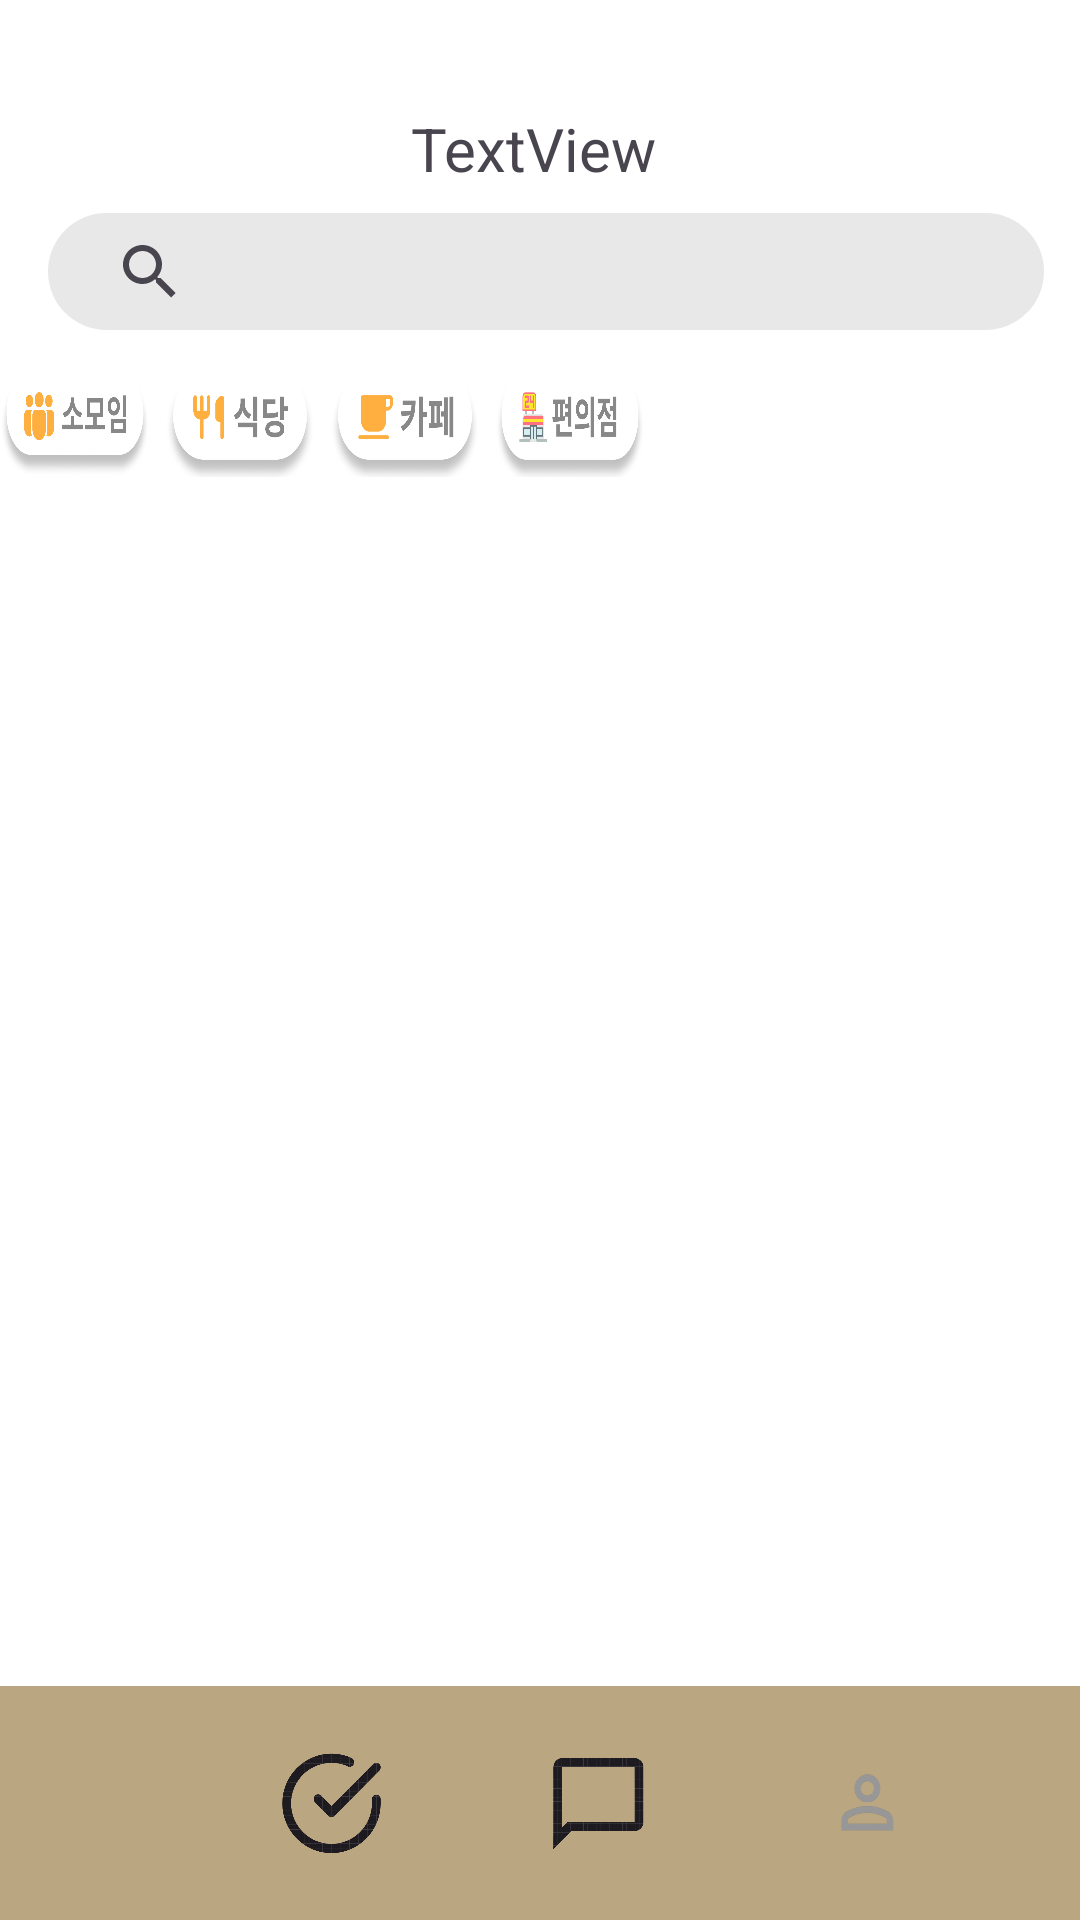

Point at icon controls on the screen. Image size 1080 × 1920, points as (x=x, y=y).
chat: (x=598, y=1803)
check: (x=331, y=1803)
mypage: (x=867, y=1802)
